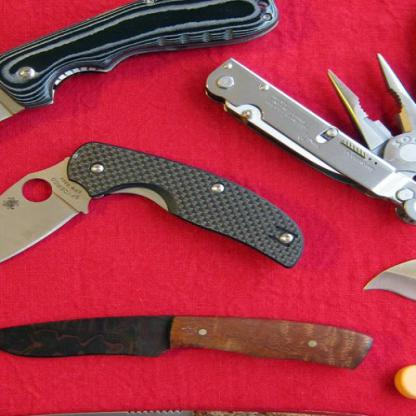knife: (0, 0, 282, 178), (0, 141, 310, 276), (0, 313, 374, 371), (357, 248, 415, 415)
